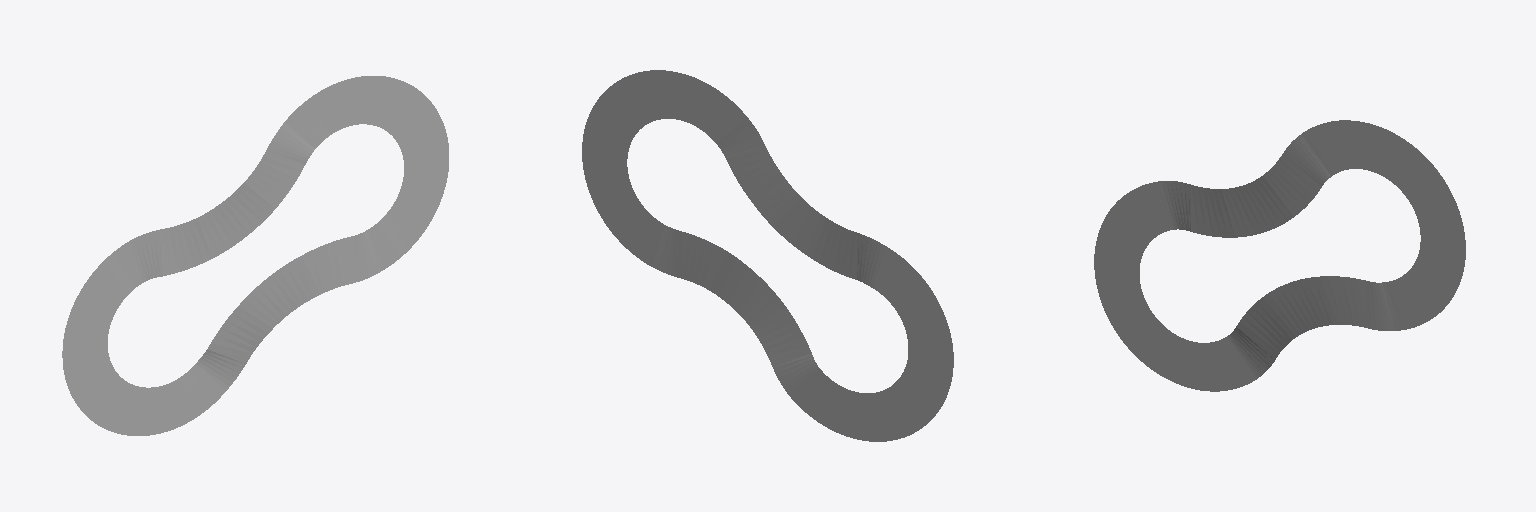
The model's file is Road_32c6b5d6-4597-4095-bd25-d037bf3262eb_3.obj.
3 views of the same model, side by side, from view 1: azimuth 30°, elevation 25°; view 2: azimuth 150°, elevation 25°; view 3: azimuth 330°, elevation 25° (orthographic).
Visible parts, largest first — view 1: g1; view 2: g1; view 3: g1.
Part boxes in pixels (x1,y1,x2,y2): g1: (62,76,448,435); g1: (582,70,953,441); g1: (1094,120,1465,391).
Size of the model in its own units: 359 by 286 by 12.75.